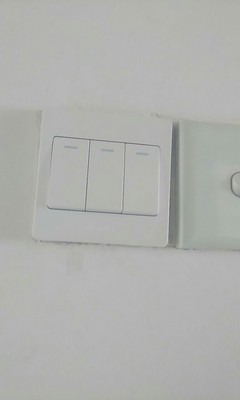switch: (42, 128, 90, 216), (119, 137, 165, 220), (82, 132, 126, 217)
